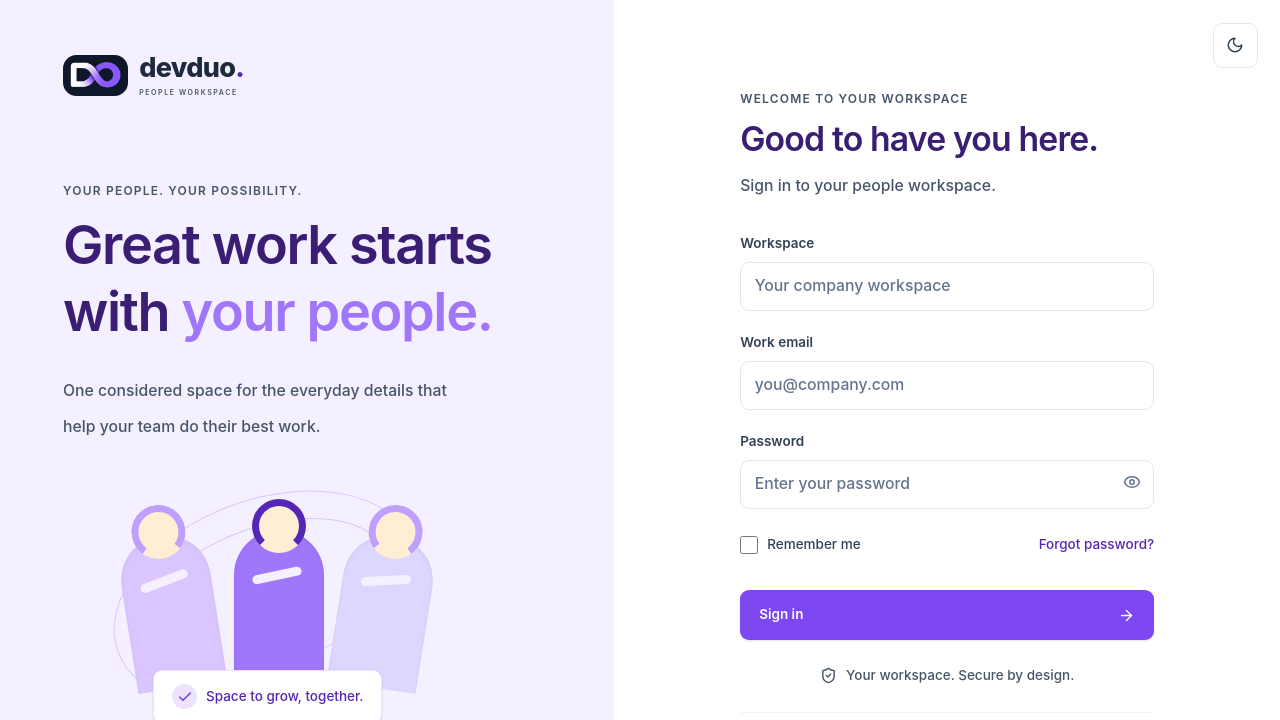
Test: login MFA challenge › shows an invalid-code error and stays on the challenge
Type "alpha" into the field labelled "Workspace" at (947, 287), box x1=740 y1=262 x2=1154 y2=311
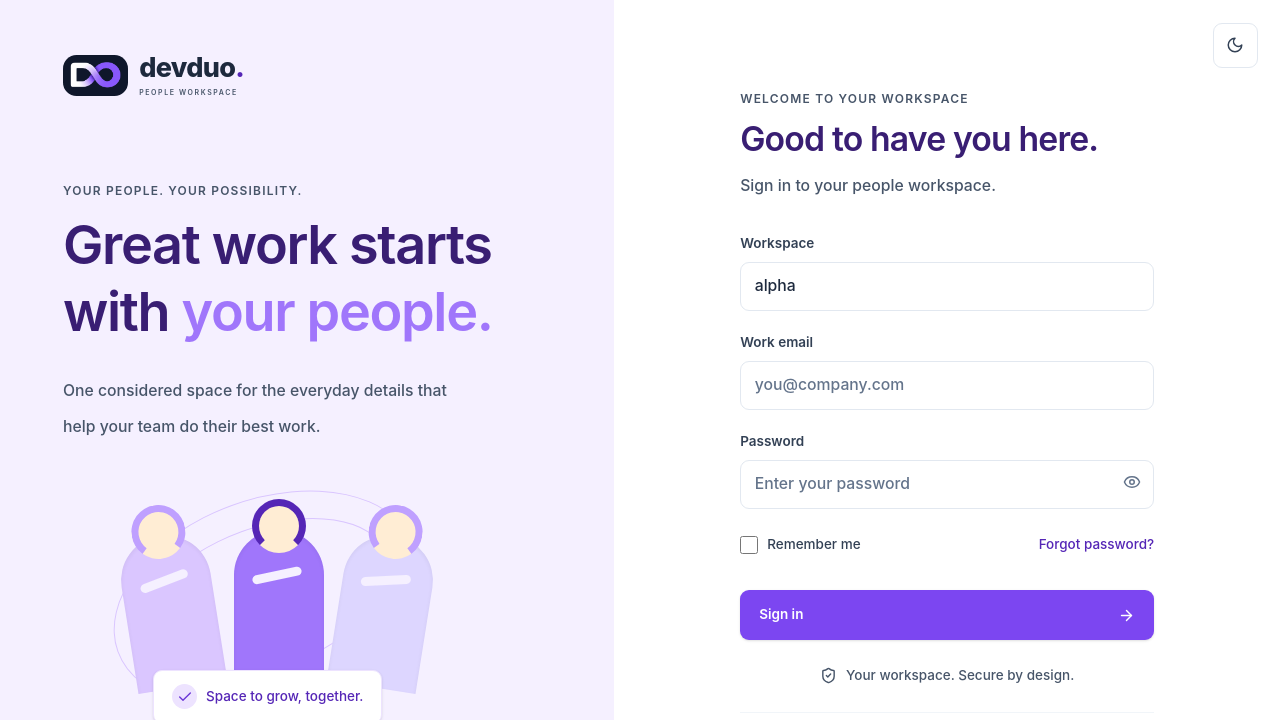
Type "a@alpha.test" into the field labelled "Work email" at (947, 386), box x1=740 y1=361 x2=1154 y2=410
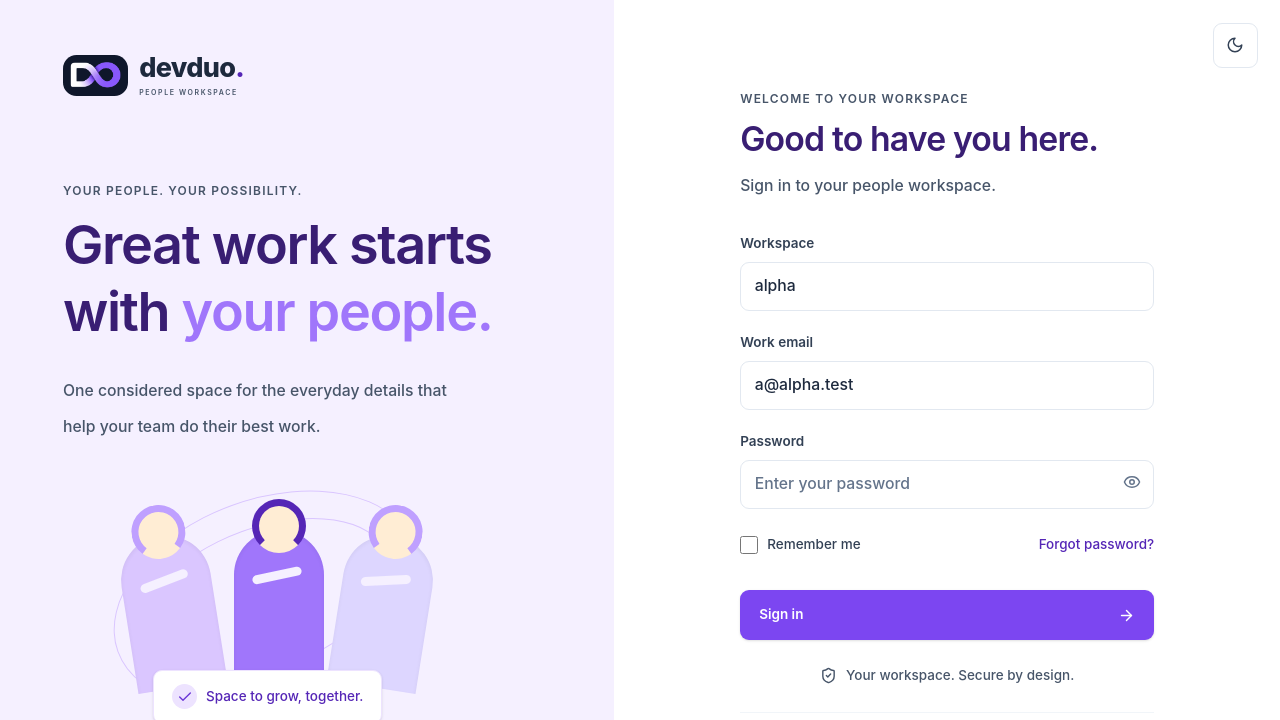
Type "StrongPassword123" into the password field labelled "Password" at (947, 485), box x1=740 y1=460 x2=1154 y2=509
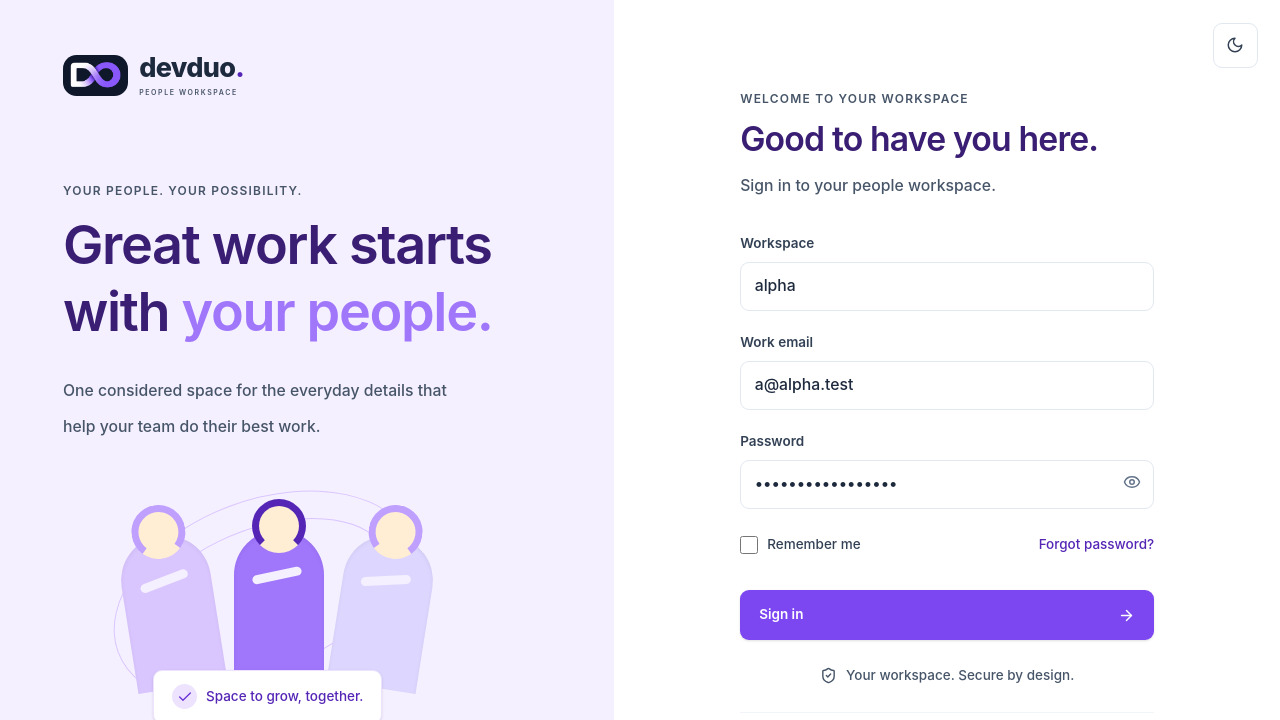
Click the button "Sign in" at (781, 614), box x1=740 y1=590 x2=1154 y2=640
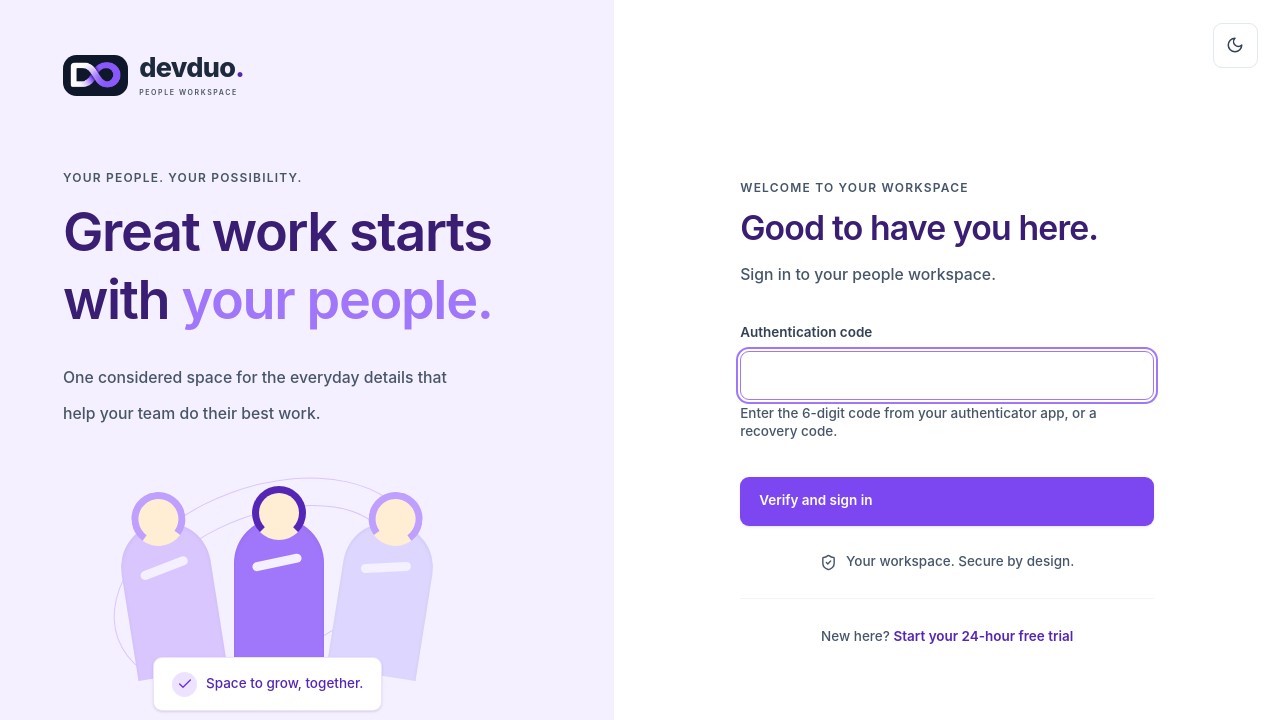
Type "000000" into the field labelled "Authentication code" at (947, 375), box x1=740 y1=351 x2=1154 y2=400
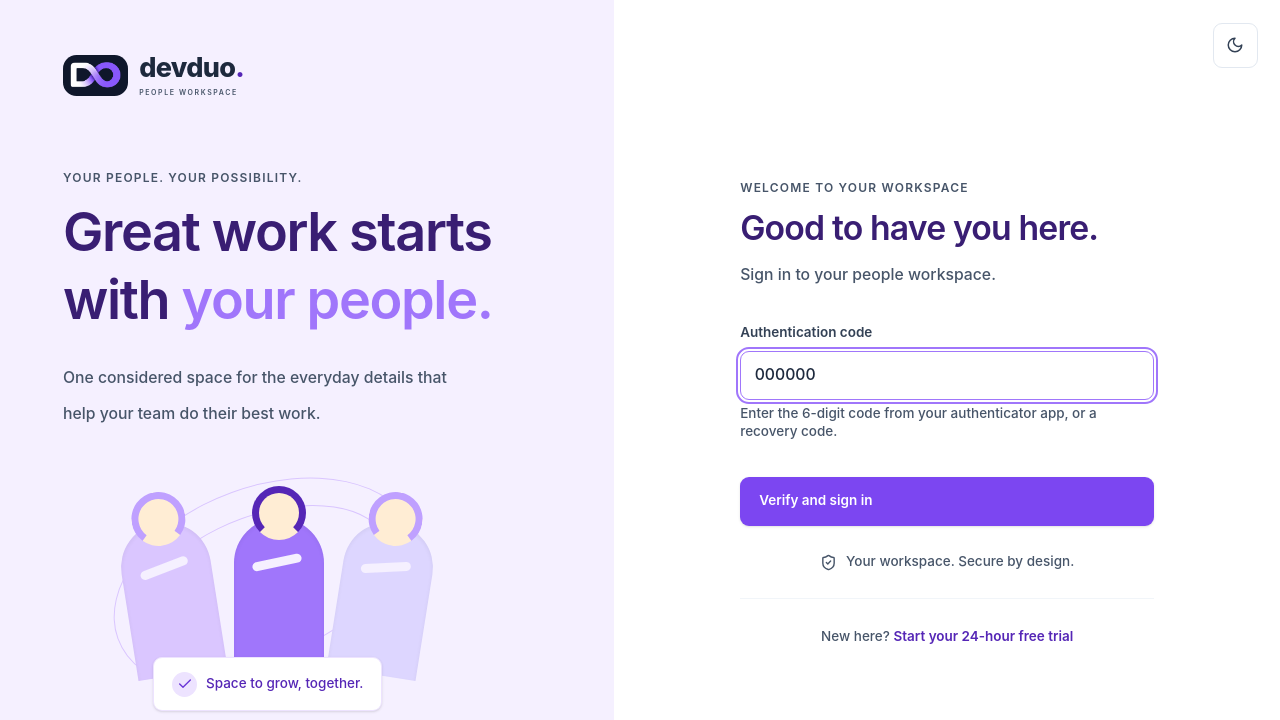
Click the button "Verify and sign in" at (816, 500), box x1=740 y1=477 x2=1154 y2=526
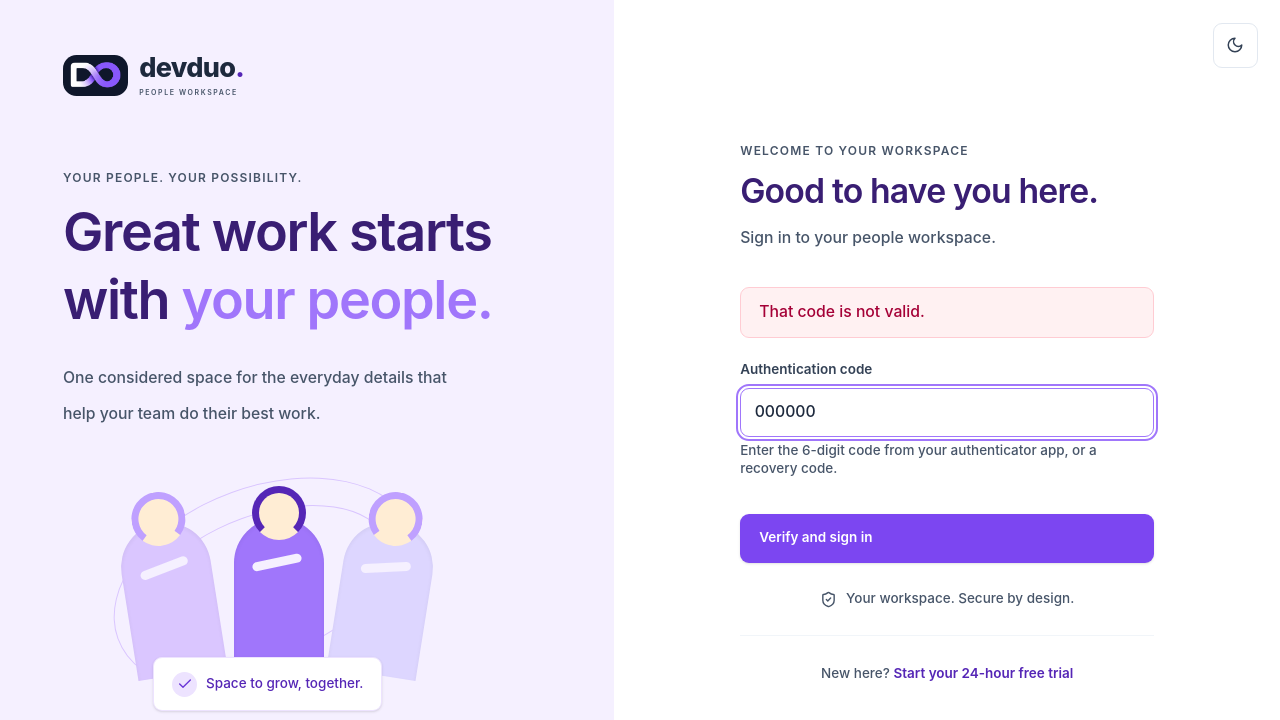
Expected: the message reads "That code is not valid.", x1=759 y1=302 x2=925 y2=321
